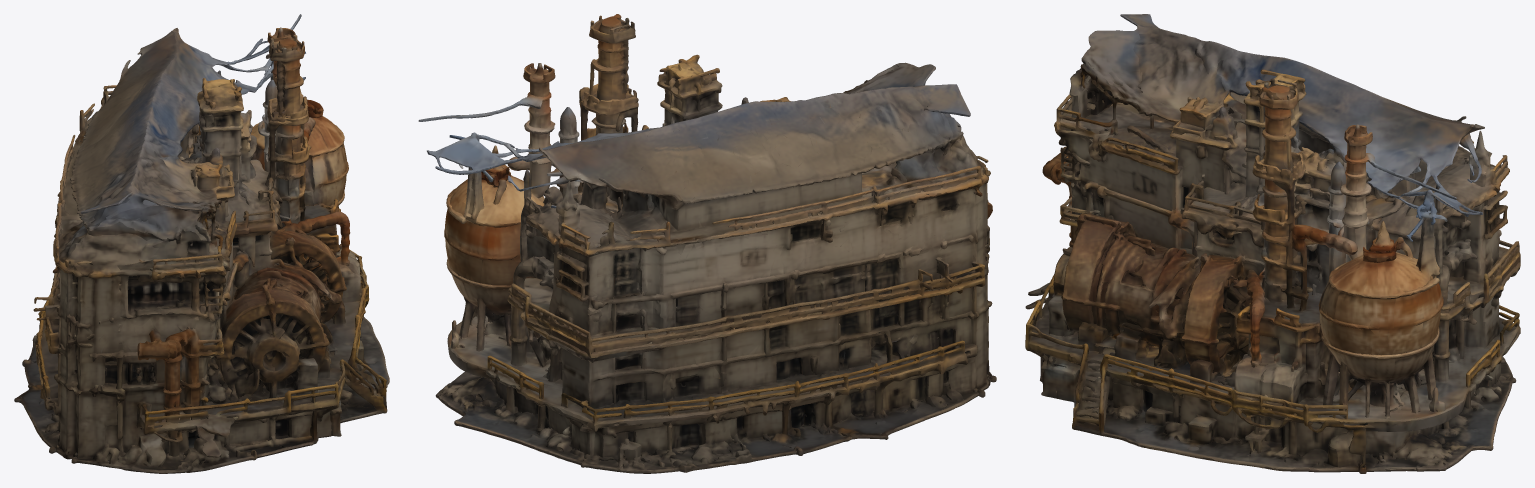
The model's file is b01_ruin.glb.
The picture shows the model from 3 angles, left to right: view 1: azimuth 30°, elevation 25°; view 2: azimuth 150°, elevation 25°; view 3: azimuth 270°, elevation 25°; orthographic projection. The views are drawn at different scales.
Visible parts, largest first — view 1: world; view 2: world; view 3: world.
Part boxes in pixels (left/top/right/bottom): world: left=14, top=14, right=389, bottom=473; world: left=418, top=14, right=996, bottom=473; world: left=1025, top=14, right=1520, bottom=473.
Size of the model in its own units: 18 by 13.78 by 18.1.
1 material, 1 textured.
